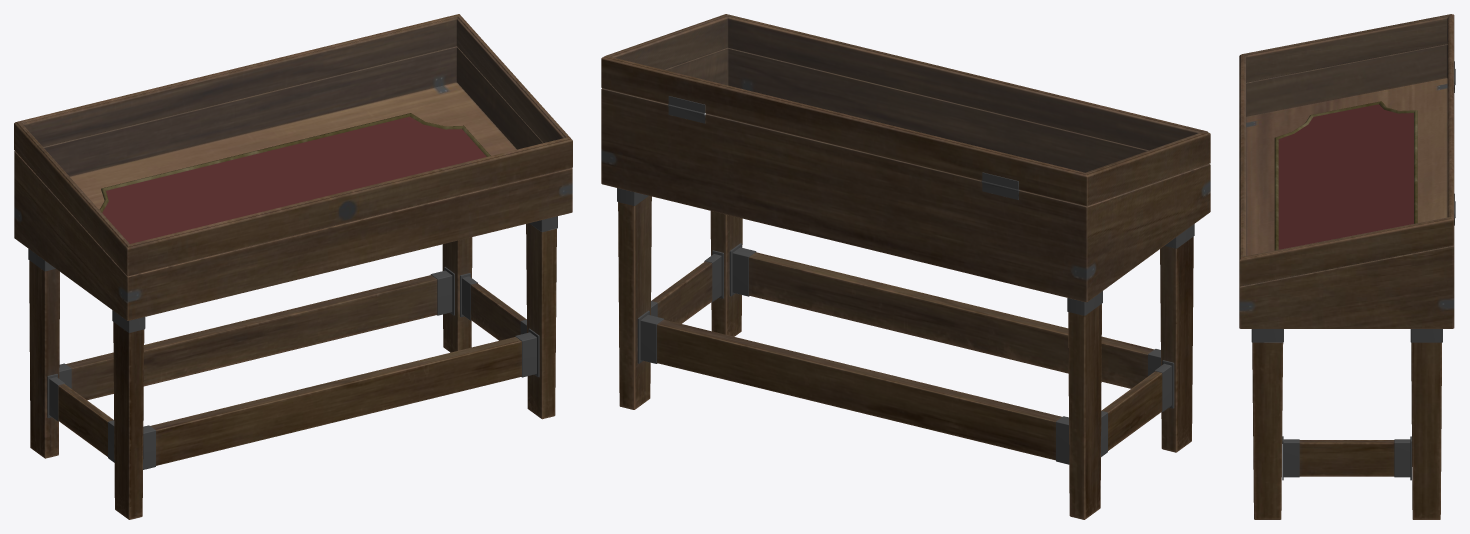
The model's file is display.obj.
3 views of the same model, side by side, from view 1: azimuth 30°, elevation 25°; view 2: azimuth 150°, elevation 25°; view 3: azimuth 270°, elevation 25° (orthographic). The views are drawn at different scales.
Visible parts, largest first — view 1: defaultMaterial.001; view 2: defaultMaterial.001; view 3: defaultMaterial.001.
Boxes of the visible parts, bbox=[...] form: defaultMaterial.001: bbox=[14, 14, 572, 519]; defaultMaterial.001: bbox=[601, 14, 1210, 519]; defaultMaterial.001: bbox=[1239, 14, 1455, 519].
Size of the model in its own units: 299 by 208 by 133.
